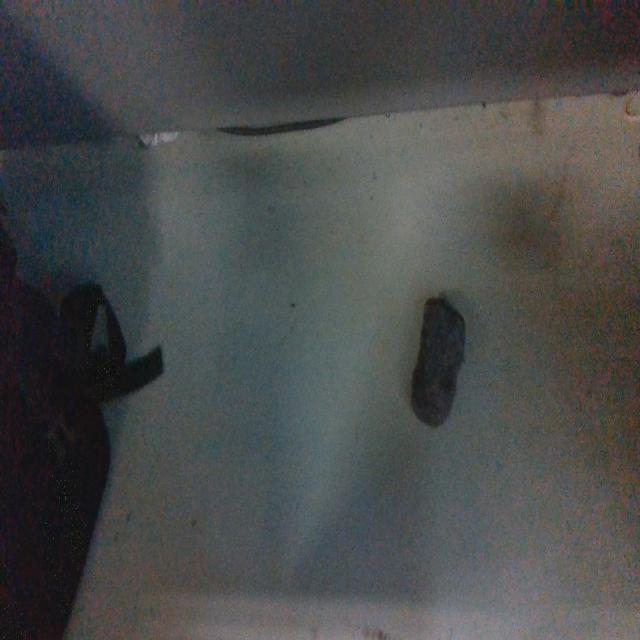stone: (410, 295, 466, 428)
